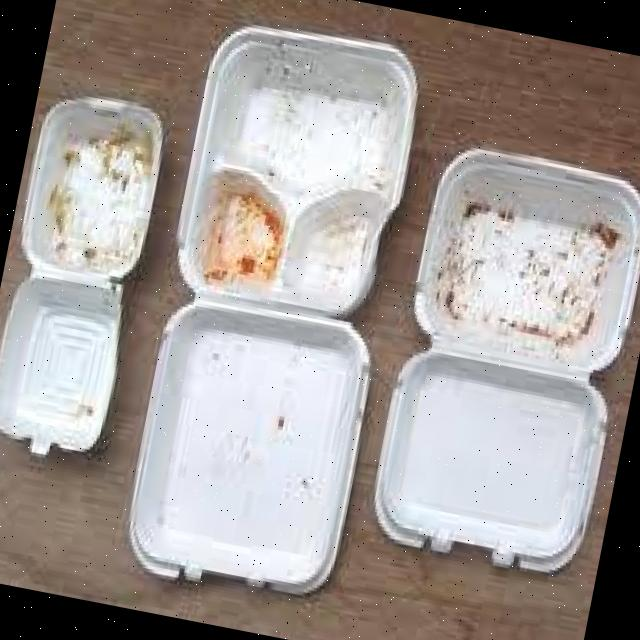styrofoam: (107, 4, 437, 610), (361, 132, 640, 582), (0, 82, 171, 469)
